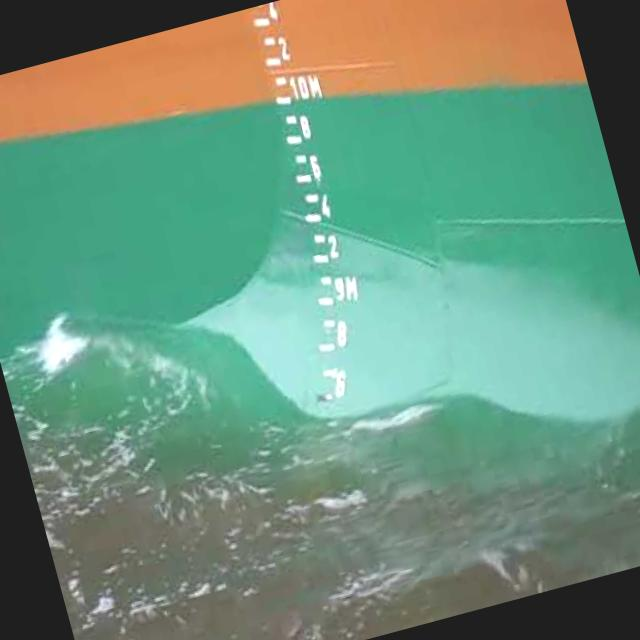Ship Draft Marks: (329, 370, 351, 398), (342, 272, 362, 302), (332, 319, 352, 349), (306, 73, 324, 104), (308, 152, 323, 183), (276, 34, 292, 62), (298, 114, 314, 140), (317, 193, 333, 219), (332, 276, 348, 302), (325, 234, 340, 260), (296, 74, 310, 100), (265, 0, 281, 22), (288, 74, 301, 101)
